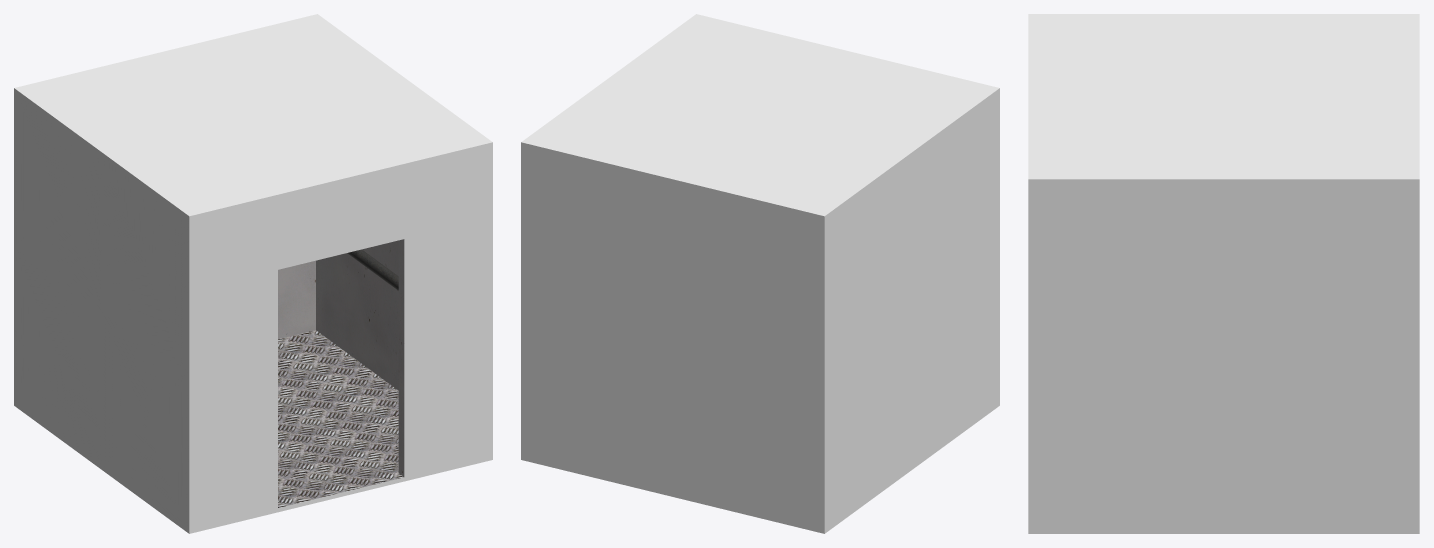
The model's file is Elevator.fbx.
The picture shows the model from 3 angles, left to right: view 1: azimuth 30°, elevation 25°; view 2: azimuth 150°, elevation 25°; view 3: azimuth 270°, elevation 25°; orthographic projection. The views are drawn at different scales.
Parts seen in each view (by area): view 1: node_id9 (×4); view 2: node_id9; view 3: node_id9.
Part boxes in pixels (x1,y1,x2,y2): node_id9 (×4): [14, 14, 492, 533]; node_id9: [521, 14, 999, 533]; node_id9: [1028, 14, 1419, 533].
Size of the model in its own units: 0.512 by 0.512 by 0.512.
4 materials, 3 textured.
